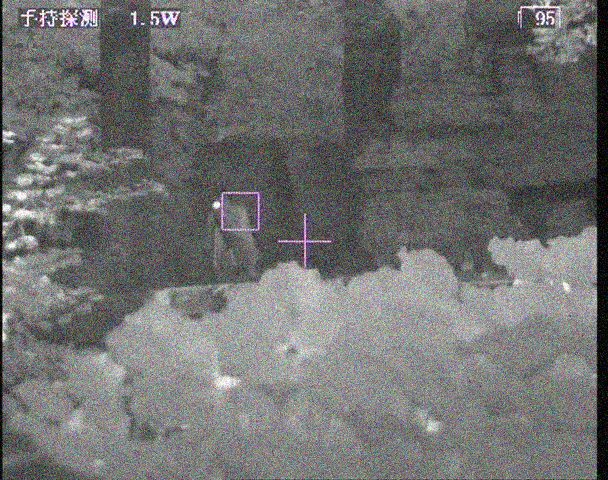my: (210, 199, 223, 211)
